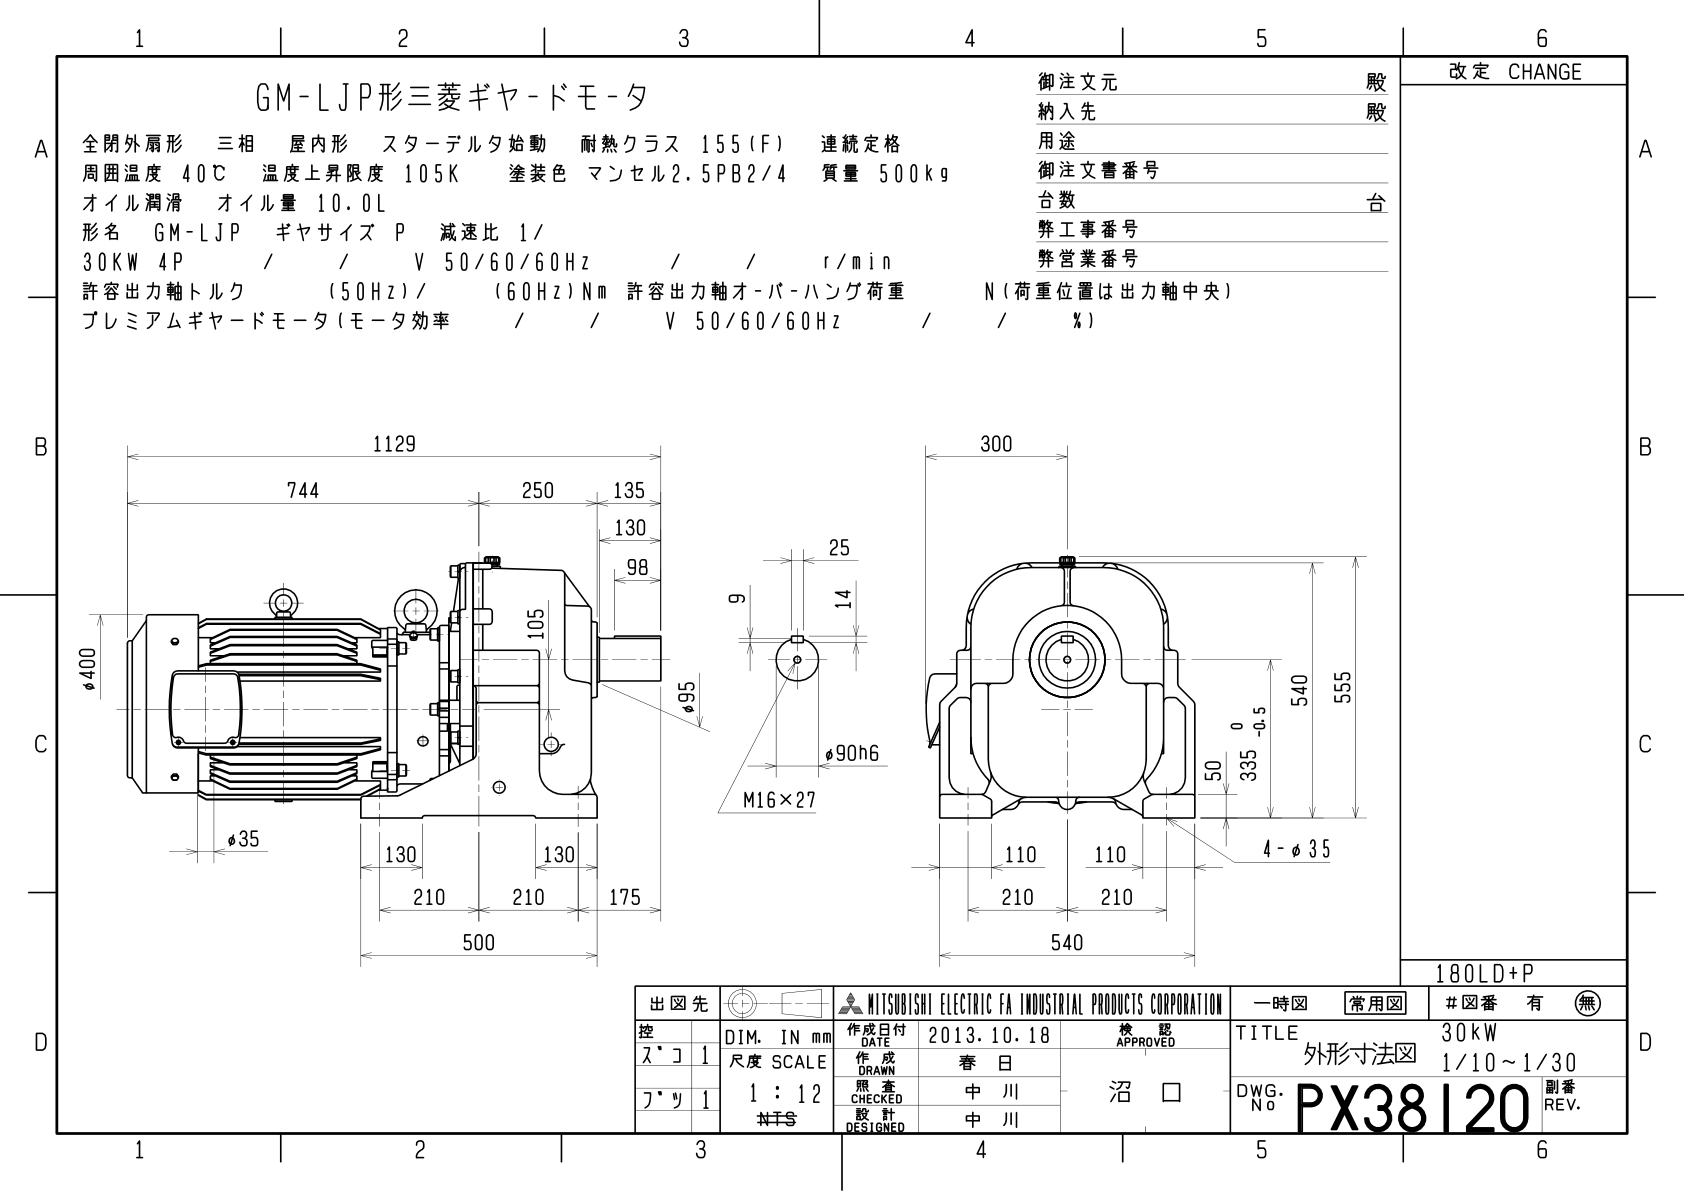GM_LJP_屋内_三相_脚: (70, 416, 1383, 983)
